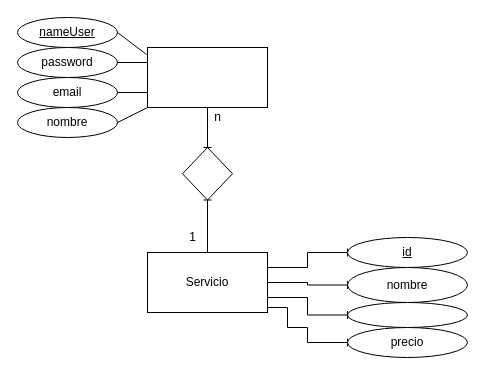
The diagram is 485 pixels wide and 375 high, and some of its shapes have lost their labels. Each missing label, with the centre of its shape:
descripcion: the point at 407,315
solicita: the point at 207,173
Usuario: the point at 207,77
